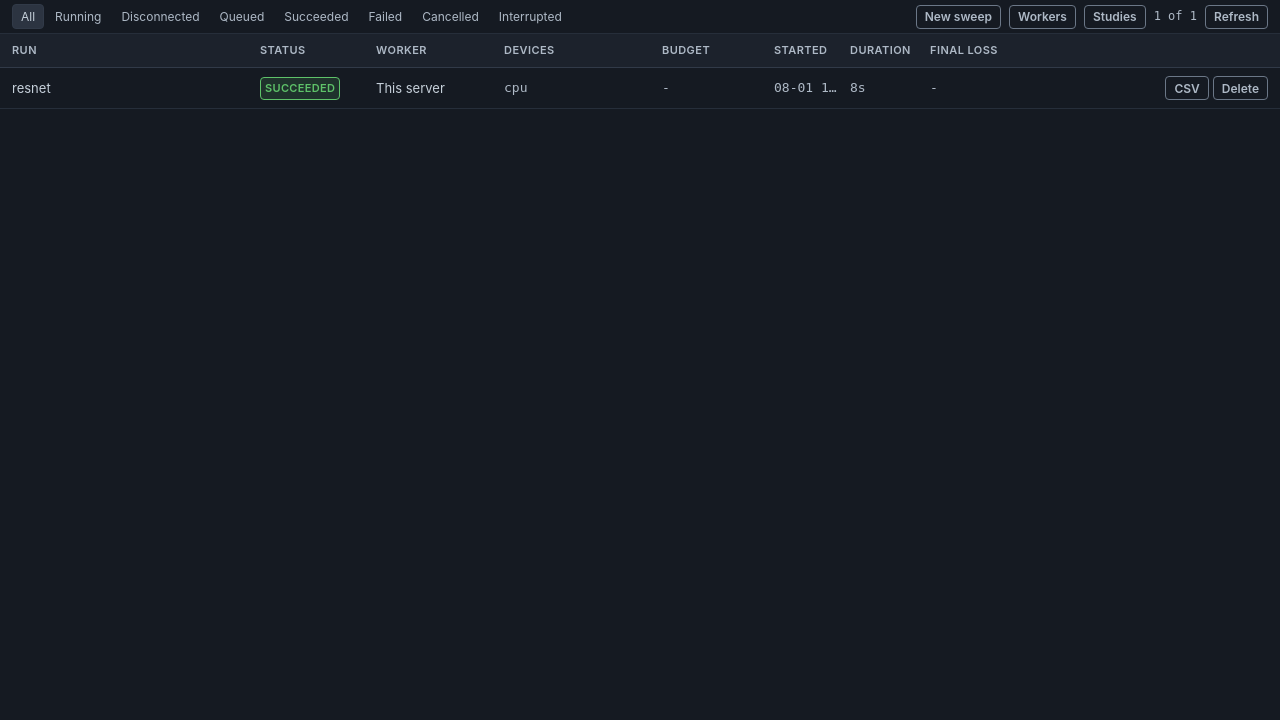
RunsPanel — detail CSV export › sits in the metrics section of the detail panel, beside the row button
Expected: the text "resnet" is shown, [12,80,51,96]
Click the button with aria-label "resnet — Succeeded": (31,88) [0,68,1279,109]
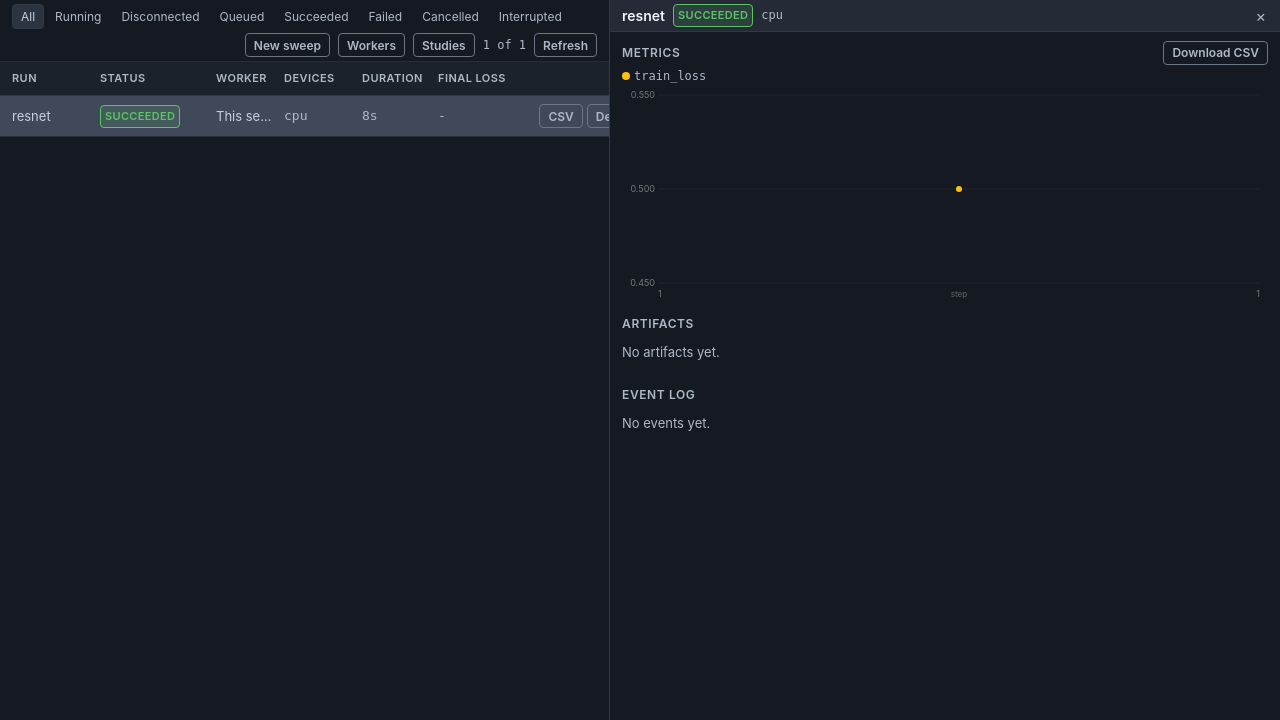
Expected: the button "CSV" is shown, [539,104,583,128]
Result: the button with test id "detail-csv" reads "Download CSV" at [1163,40,1268,64]
